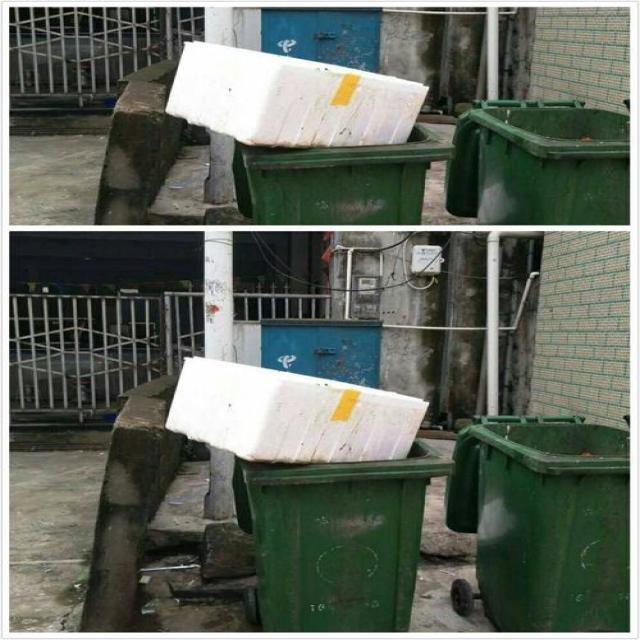garbage_bin: (443, 412, 626, 630), (445, 99, 626, 223)
overflow: (164, 355, 453, 631), (162, 40, 452, 223)
